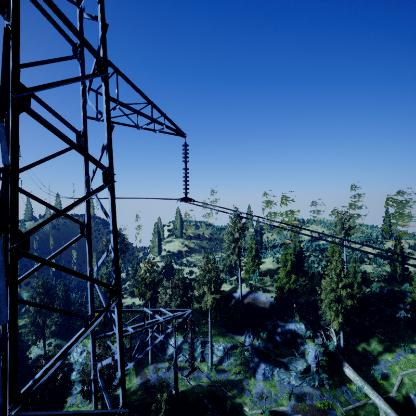insulator: (181, 143, 192, 199)
